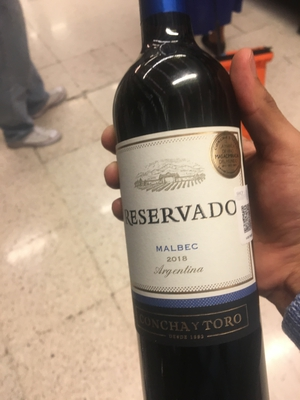reservado malbec: (110, 10, 269, 400)
